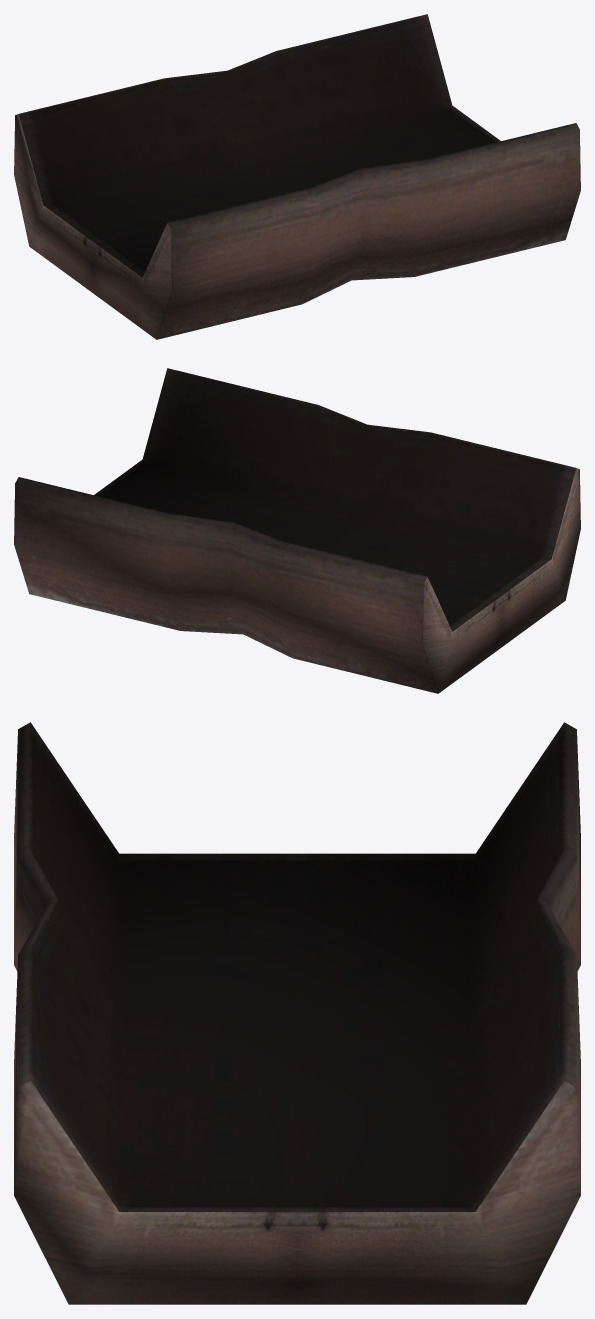
The picture shows the model from 3 angles, top to bottom: view 1: azimuth 30°, elevation 25°; view 2: azimuth 150°, elevation 25°; view 3: azimuth 270°, elevation 25°; orthographic projection. The views are drawn at different scales.
Visible parts, largest first — view 1: node_id16; view 2: node_id16; view 3: node_id16.
Part boxes in pixels (left/top/right/bottom): node_id16: left=14, top=14, right=580, bottom=339; node_id16: left=14, top=368, right=580, bottom=693; node_id16: left=14, top=722, right=580, bottom=1304.
Size of the model in its own units: 0.0859 by 0.0251 by 0.0574.
Materials: 1 (1 with a texture image).
